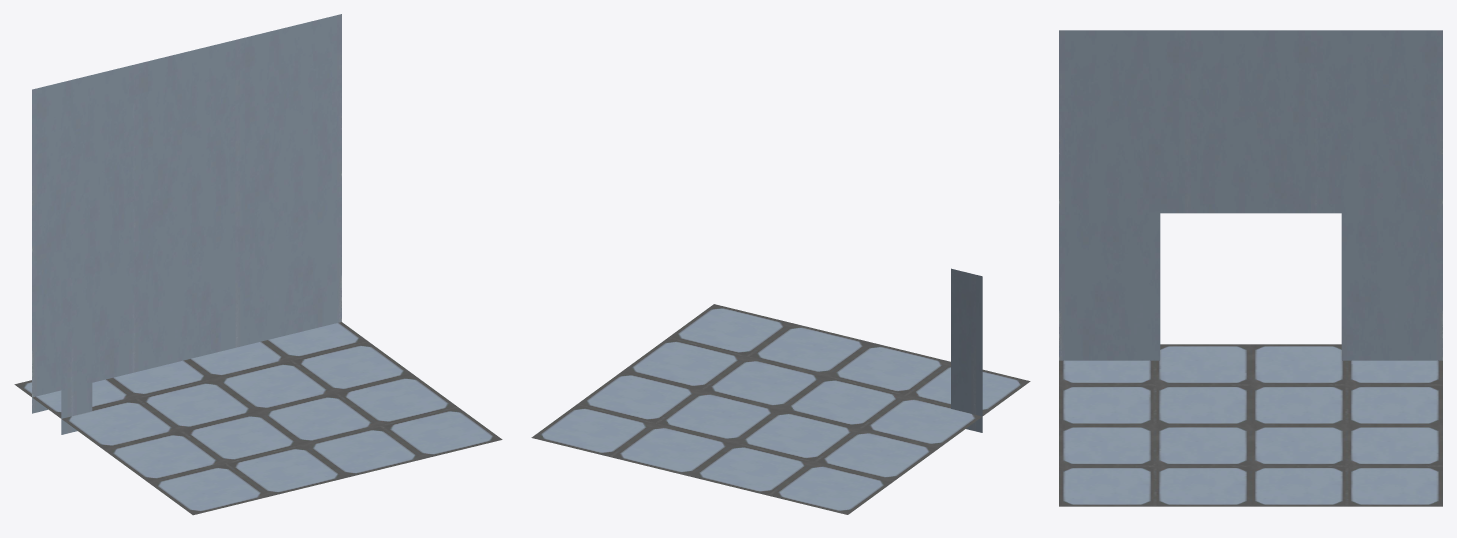
The model's file is Room_MTN_Door_Corner_B_1.glb.
3 renders of one model, left to right at view 1: azimuth 30°, elevation 25°; view 2: azimuth 150°, elevation 25°; view 3: azimuth 270°, elevation 25°, orthographic. The views are drawn at different scales.
Visible parts, largest first — view 1: Room_MTN_Door_Corner_B_1; view 2: Room_MTN_Door_Corner_B_1; view 3: Room_MTN_Door_Corner_B_1.
Boxes of the visible parts, left/top/right/bottom form: Room_MTN_Door_Corner_B_1: left=14, top=14, right=502, bottom=515; Room_MTN_Door_Corner_B_1: left=531, top=268, right=1030, bottom=514; Room_MTN_Door_Corner_B_1: left=1059, top=30, right=1442, bottom=506.
Bounding box in the file's own units: 4 × 4 × 4.
Materials: 2 (2 with a texture image).
